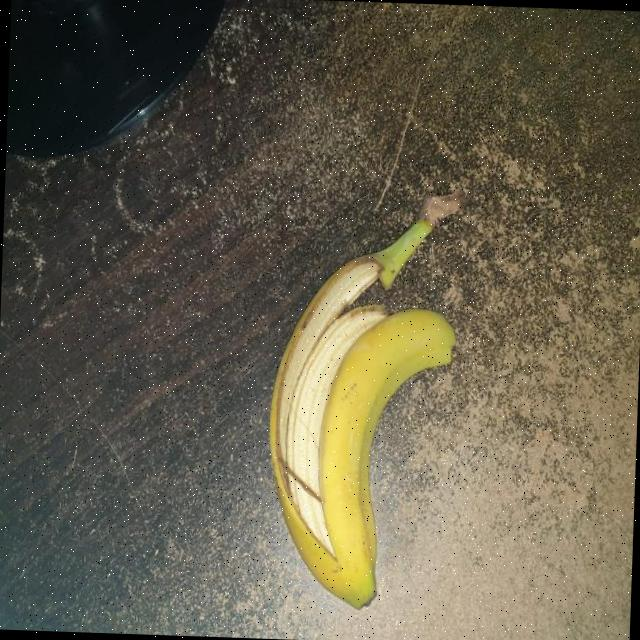banana-peel: (261, 182, 466, 612)
